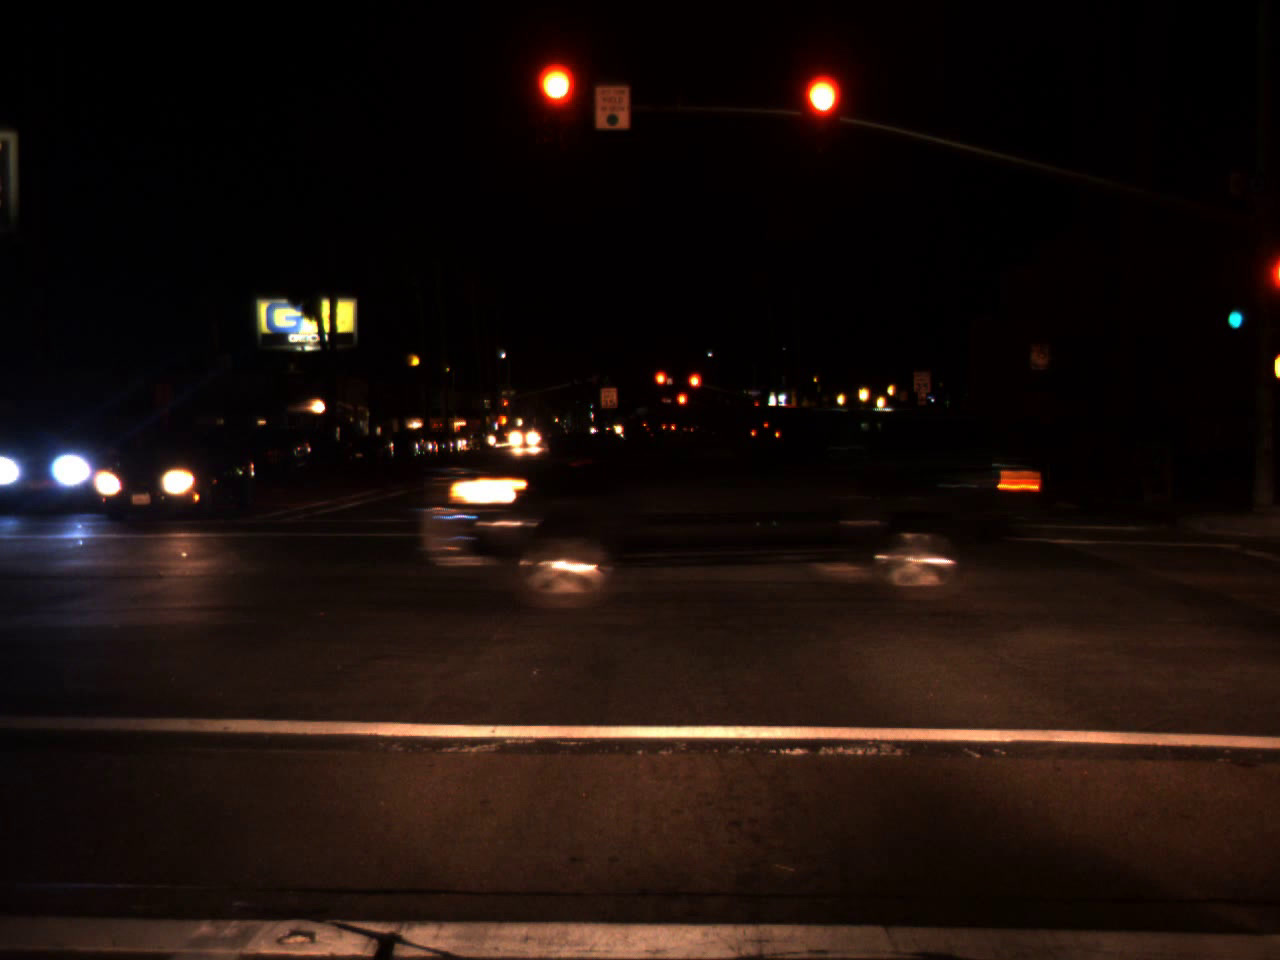stop: (537, 65, 577, 143), (801, 76, 841, 154), (686, 371, 702, 403), (653, 369, 668, 401), (675, 391, 688, 418), (751, 399, 761, 409), (503, 401, 509, 411)
